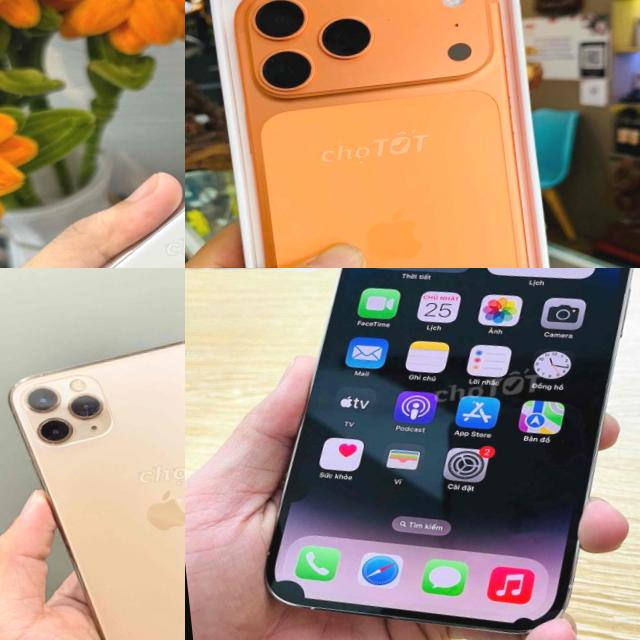scratch: (77, 398, 113, 420), (42, 428, 74, 447), (41, 380, 66, 402)
screen_defect: (272, 575, 307, 600), (509, 615, 532, 624)
